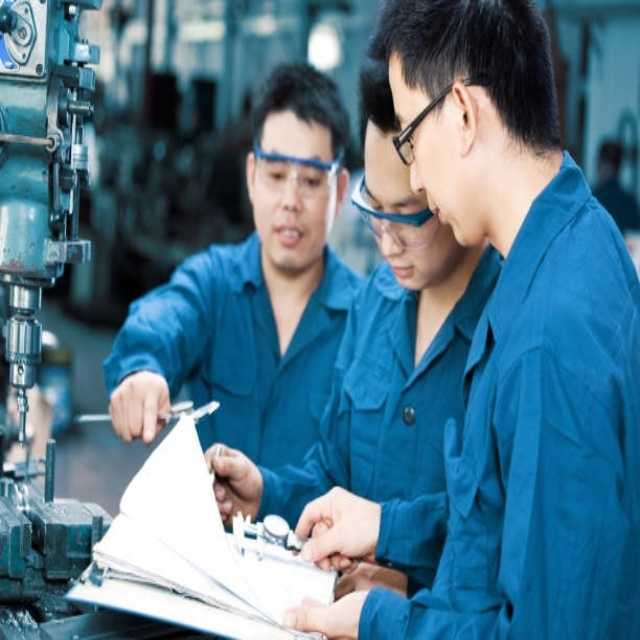Gafas: (392, 79, 483, 167), (350, 172, 440, 254), (252, 141, 343, 200)
Sin_guantes: (294, 484, 380, 571), (108, 369, 171, 446), (204, 442, 263, 523), (279, 588, 369, 640)
Sin_mascara: (422, 187, 472, 245), (269, 213, 308, 262), (384, 254, 417, 290)
